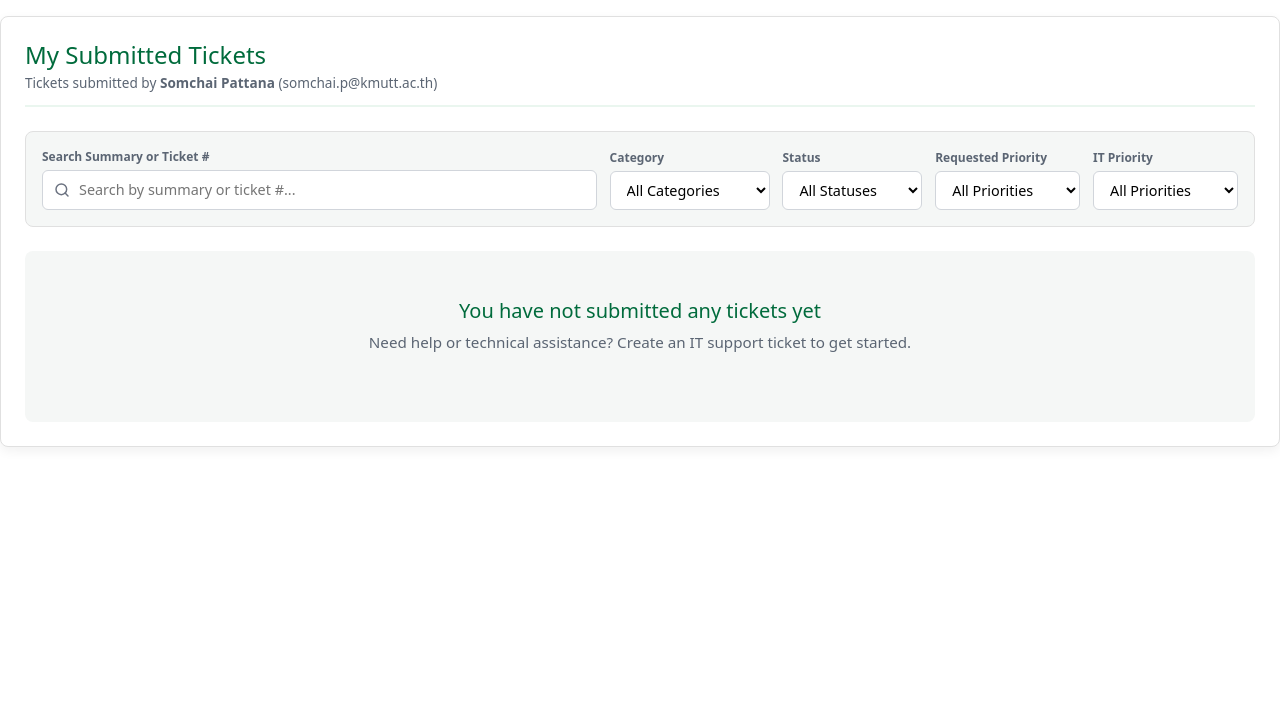
Test: MyTickets Component › renders no-search-results state and clears filters when button clicked
In the field with placeholder "Search by summary or ticket #...": (319, 190) [42,170,597,210], type "nonexistent"
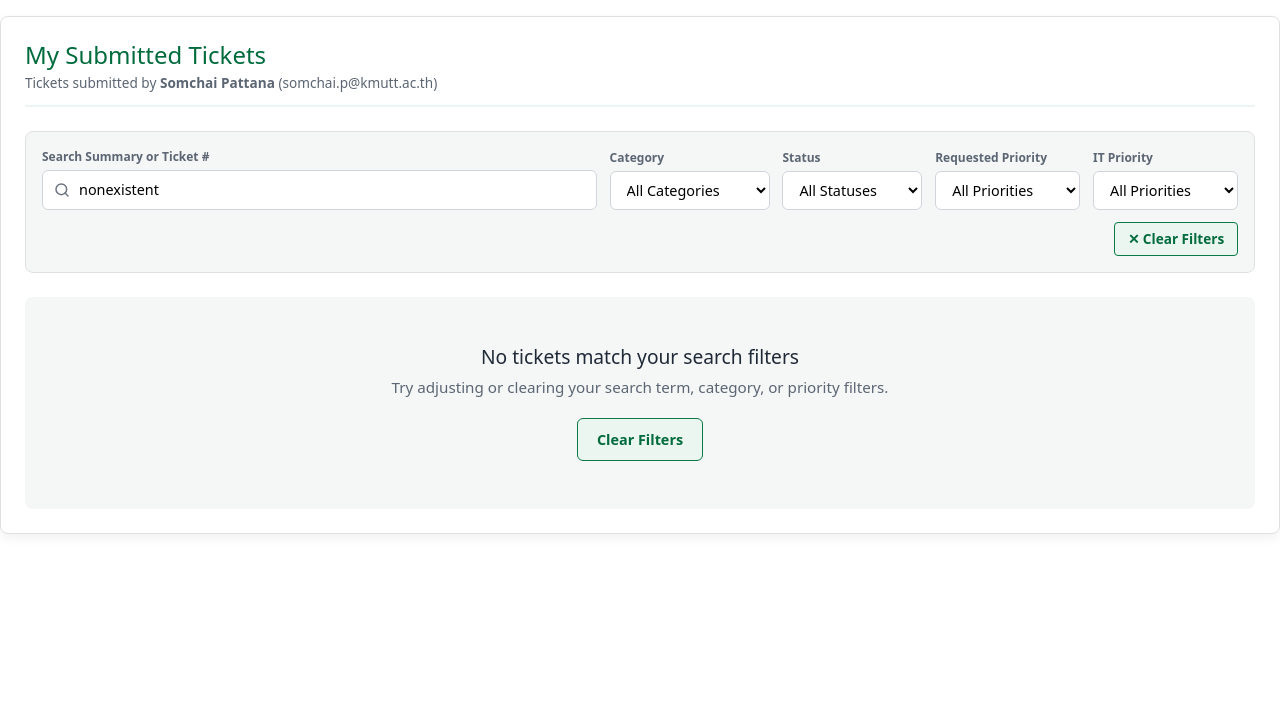
Now the heading "No tickets match your search filters" is shown, box [481,342,799,370]
Click the button "✕ Clear Filters": (1176, 239) [1114,222,1238,256]
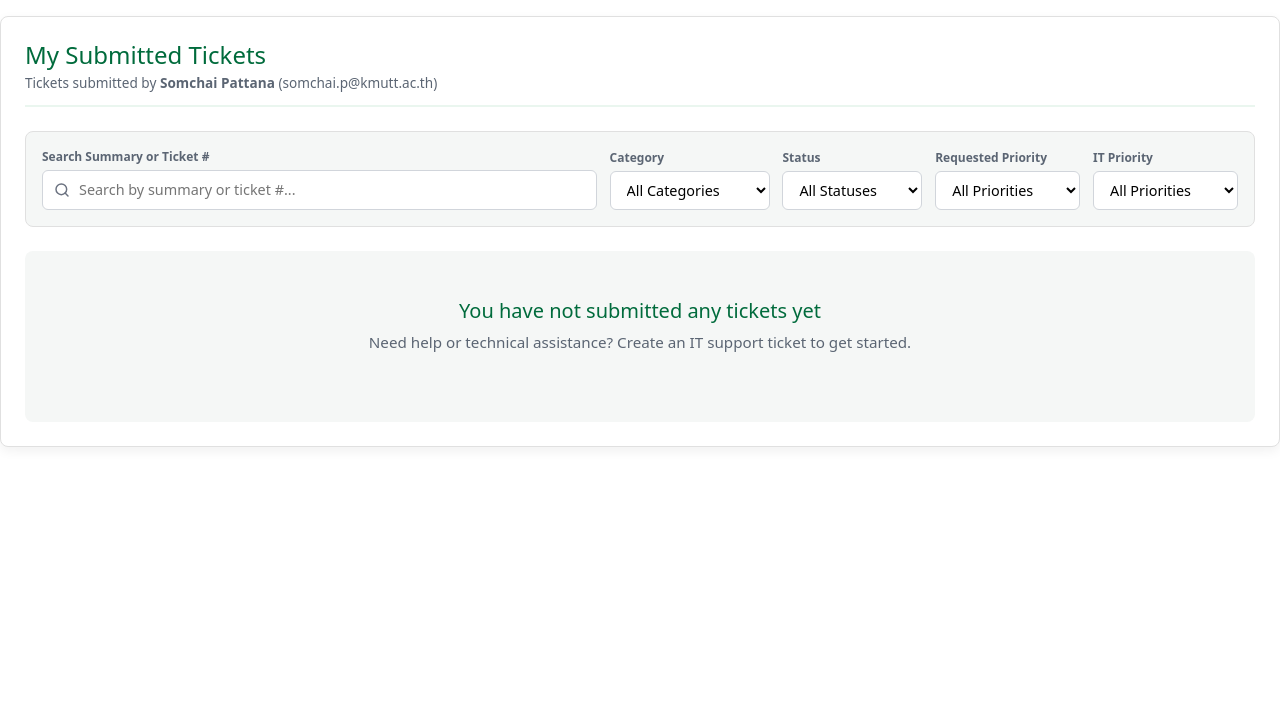
Now the field with placeholder "Search by summary or ticket #..." is empty, box [42,170,597,210]
